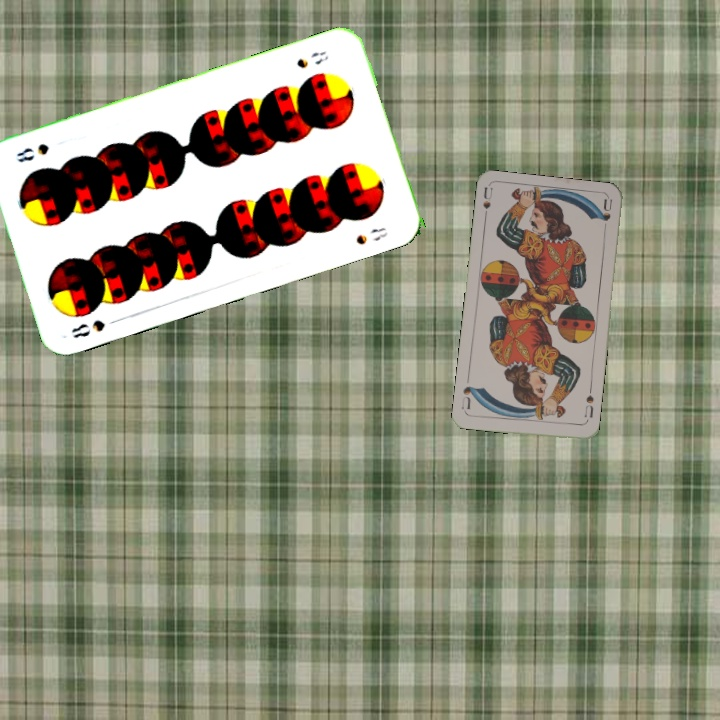S8: (67, 314, 123, 341), (292, 47, 331, 71)
SU: (479, 184, 495, 225), (581, 385, 596, 420)
